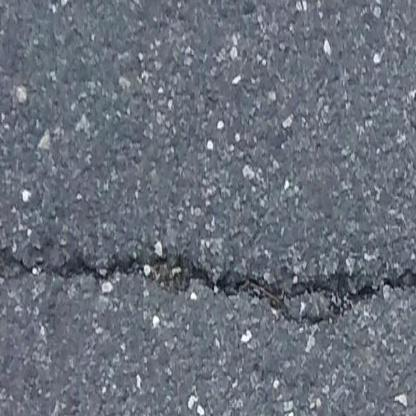Cracks: (0, 209, 416, 362)
